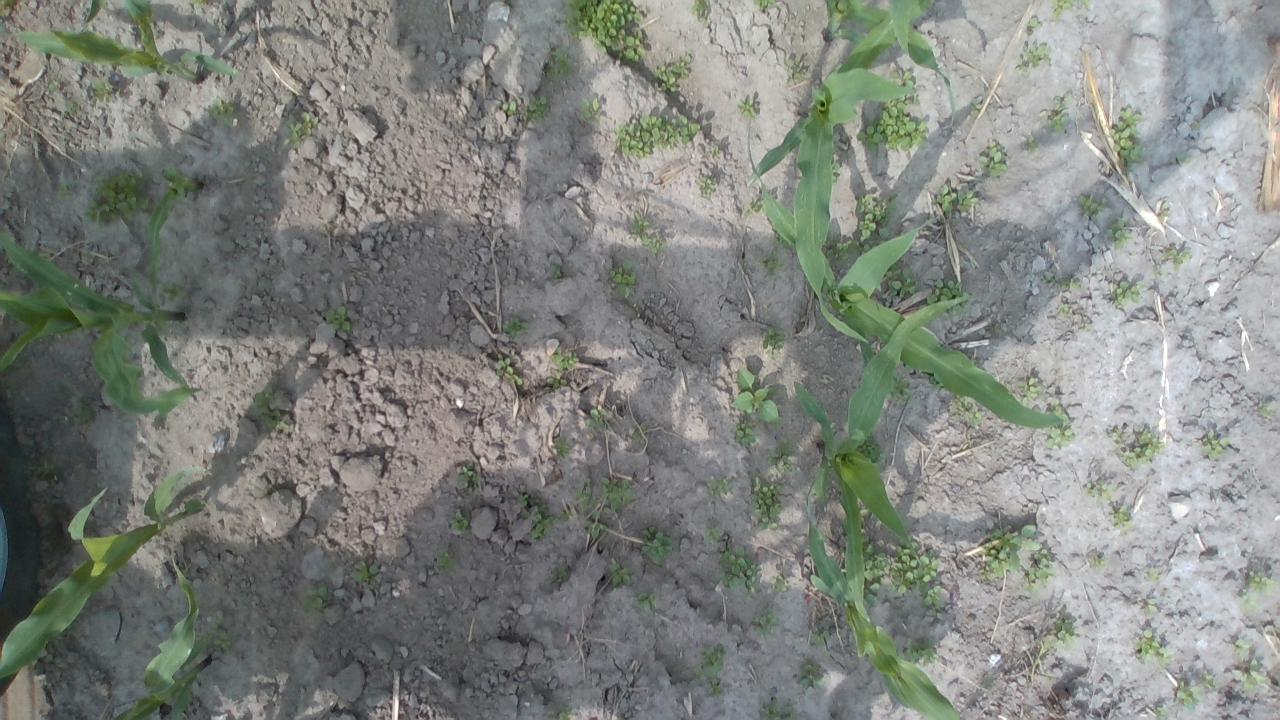Maize: (741, 128, 1067, 428), (746, 0, 937, 345), (797, 289, 966, 625), (0, 468, 203, 672), (804, 476, 964, 720), (0, 226, 199, 418), (10, 0, 244, 84), (822, 0, 958, 126), (115, 552, 208, 720), (146, 160, 204, 282)
Weeds: (558, 0, 648, 63), (856, 93, 929, 156), (614, 114, 701, 158), (84, 172, 150, 226), (889, 539, 940, 606), (980, 523, 1034, 582), (850, 192, 898, 258), (731, 367, 783, 426), (1106, 103, 1144, 168), (1111, 424, 1162, 471), (859, 532, 889, 610), (576, 476, 636, 512), (718, 544, 758, 594), (649, 52, 692, 98), (926, 278, 976, 314), (253, 382, 288, 433), (692, 646, 726, 698), (628, 212, 667, 256), (1043, 400, 1078, 448), (751, 476, 782, 530), (1024, 545, 1056, 592), (546, 347, 578, 390), (1040, 618, 1078, 654), (640, 526, 672, 568), (884, 262, 918, 301), (1135, 628, 1170, 664), (606, 260, 639, 298), (521, 504, 555, 540), (544, 46, 579, 79), (288, 109, 319, 146), (856, 430, 889, 464), (1014, 40, 1050, 71), (795, 658, 826, 694), (975, 144, 1007, 178), (768, 439, 798, 473), (1200, 428, 1230, 461), (206, 96, 237, 127), (202, 626, 242, 650), (300, 582, 330, 613), (764, 238, 788, 276), (903, 640, 938, 666), (752, 606, 782, 636), (954, 393, 982, 425), (1045, 96, 1069, 133), (757, 698, 797, 720), (608, 557, 635, 588), (1016, 376, 1042, 408), (326, 305, 353, 335), (1176, 685, 1206, 712), (1114, 281, 1146, 306), (1243, 658, 1267, 691), (930, 184, 956, 214), (824, 238, 849, 269), (1108, 216, 1132, 248), (524, 94, 552, 121), (350, 558, 379, 584), (1077, 194, 1108, 218), (497, 357, 523, 385), (584, 510, 608, 540), (760, 327, 786, 354), (501, 312, 530, 336), (889, 375, 914, 401), (1167, 247, 1192, 272), (90, 78, 113, 105), (1042, 275, 1082, 290), (1248, 568, 1272, 593), (586, 407, 610, 432), (783, 56, 808, 80), (734, 421, 758, 446), (1109, 504, 1133, 528), (578, 95, 600, 121), (887, 68, 915, 88), (1084, 481, 1113, 500), (455, 463, 477, 488), (71, 398, 92, 424), (810, 626, 833, 649), (1046, 0, 1072, 20), (158, 284, 184, 304), (551, 436, 574, 458), (957, 190, 979, 212), (706, 475, 729, 496), (736, 96, 757, 118), (448, 511, 472, 530), (437, 548, 457, 570), (548, 702, 572, 720), (697, 175, 716, 197), (638, 590, 658, 610), (690, 0, 710, 19), (770, 574, 789, 594), (63, 95, 81, 116), (1240, 591, 1258, 610), (1088, 552, 1108, 569), (742, 200, 762, 216), (750, 0, 779, 11), (702, 525, 718, 543), (829, 158, 840, 184), (1144, 598, 1158, 617), (929, 376, 946, 391), (1156, 201, 1168, 222), (1200, 673, 1216, 688), (631, 424, 646, 440), (57, 184, 73, 199), (969, 95, 982, 113), (46, 79, 60, 95), (1146, 569, 1162, 583), (502, 100, 518, 114), (550, 262, 563, 278), (1258, 404, 1274, 417), (1027, 16, 1042, 29), (556, 564, 569, 578), (187, 0, 206, 9), (1057, 304, 1071, 316), (1234, 640, 1245, 654), (1026, 137, 1036, 152), (1156, 705, 1166, 720), (518, 493, 528, 505), (1080, 322, 1092, 332), (1080, 0, 1090, 9)
